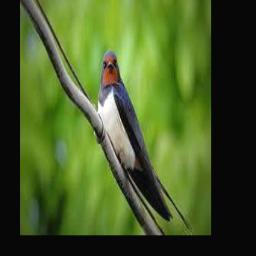Swallow: (97, 49, 191, 231)
